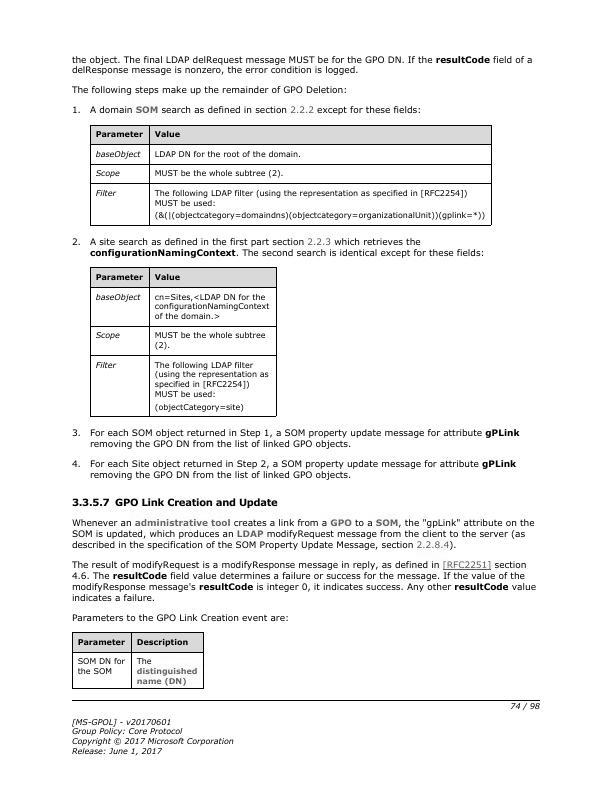table: (88, 125, 492, 227), (89, 266, 278, 419), (71, 632, 205, 689)
text: (70, 558, 539, 605), (71, 517, 537, 551), (68, 51, 537, 77), (70, 456, 517, 482), (69, 425, 521, 449), (68, 235, 487, 258), (69, 716, 235, 758), (70, 104, 423, 115), (68, 83, 353, 96), (70, 611, 292, 625), (70, 497, 278, 508)
